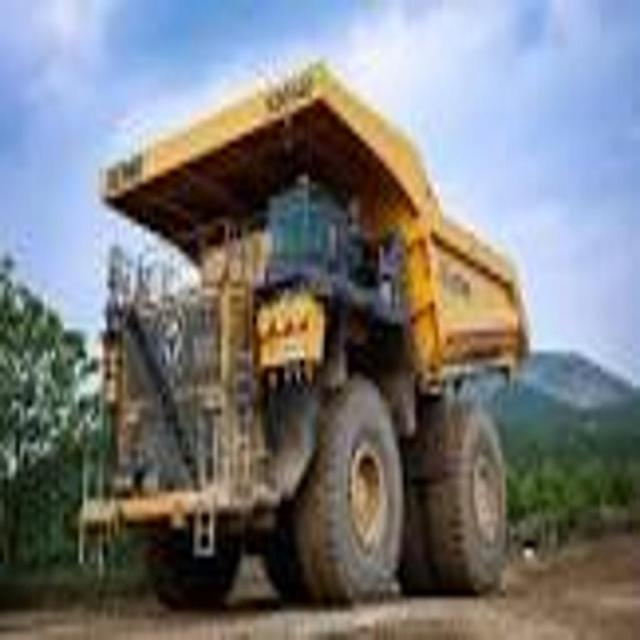dump_truck: (80, 62, 542, 620)
